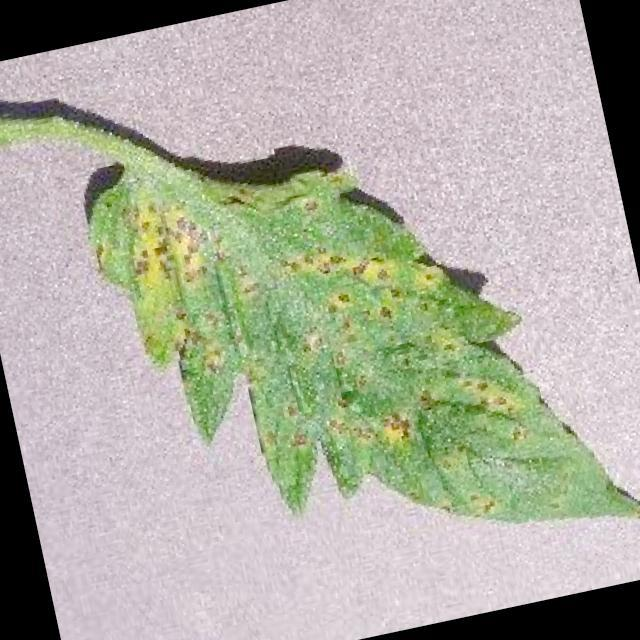Tomato Septoria spot leaf: (74, 79, 640, 623)
